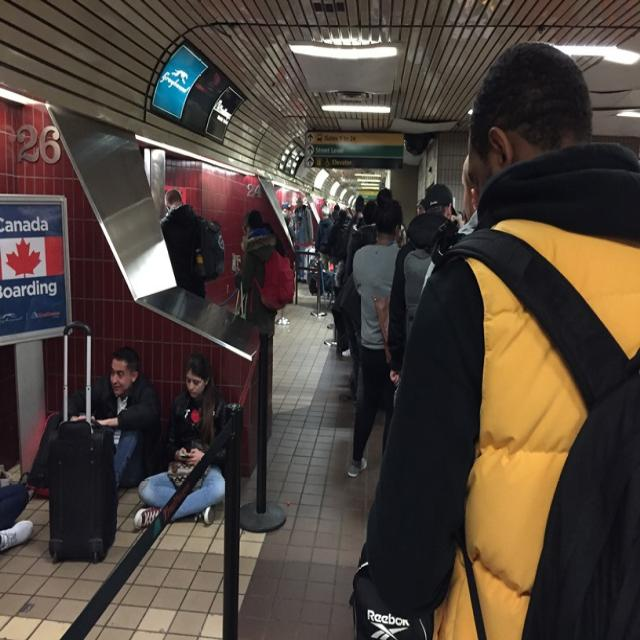body: (346, 38, 640, 639), (133, 350, 228, 532), (346, 195, 405, 480), (385, 180, 460, 387), (67, 344, 162, 492), (232, 208, 279, 408), (158, 188, 207, 302), (342, 198, 379, 286), (0, 479, 36, 557), (331, 194, 365, 264), (449, 148, 475, 235), (292, 197, 314, 286), (314, 204, 335, 271), (280, 202, 296, 246), (374, 186, 395, 202), (416, 190, 428, 217)
